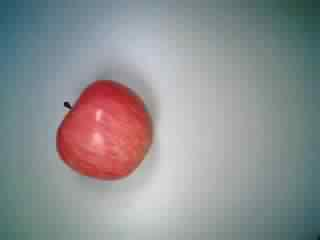apple: (49, 79, 154, 181)
